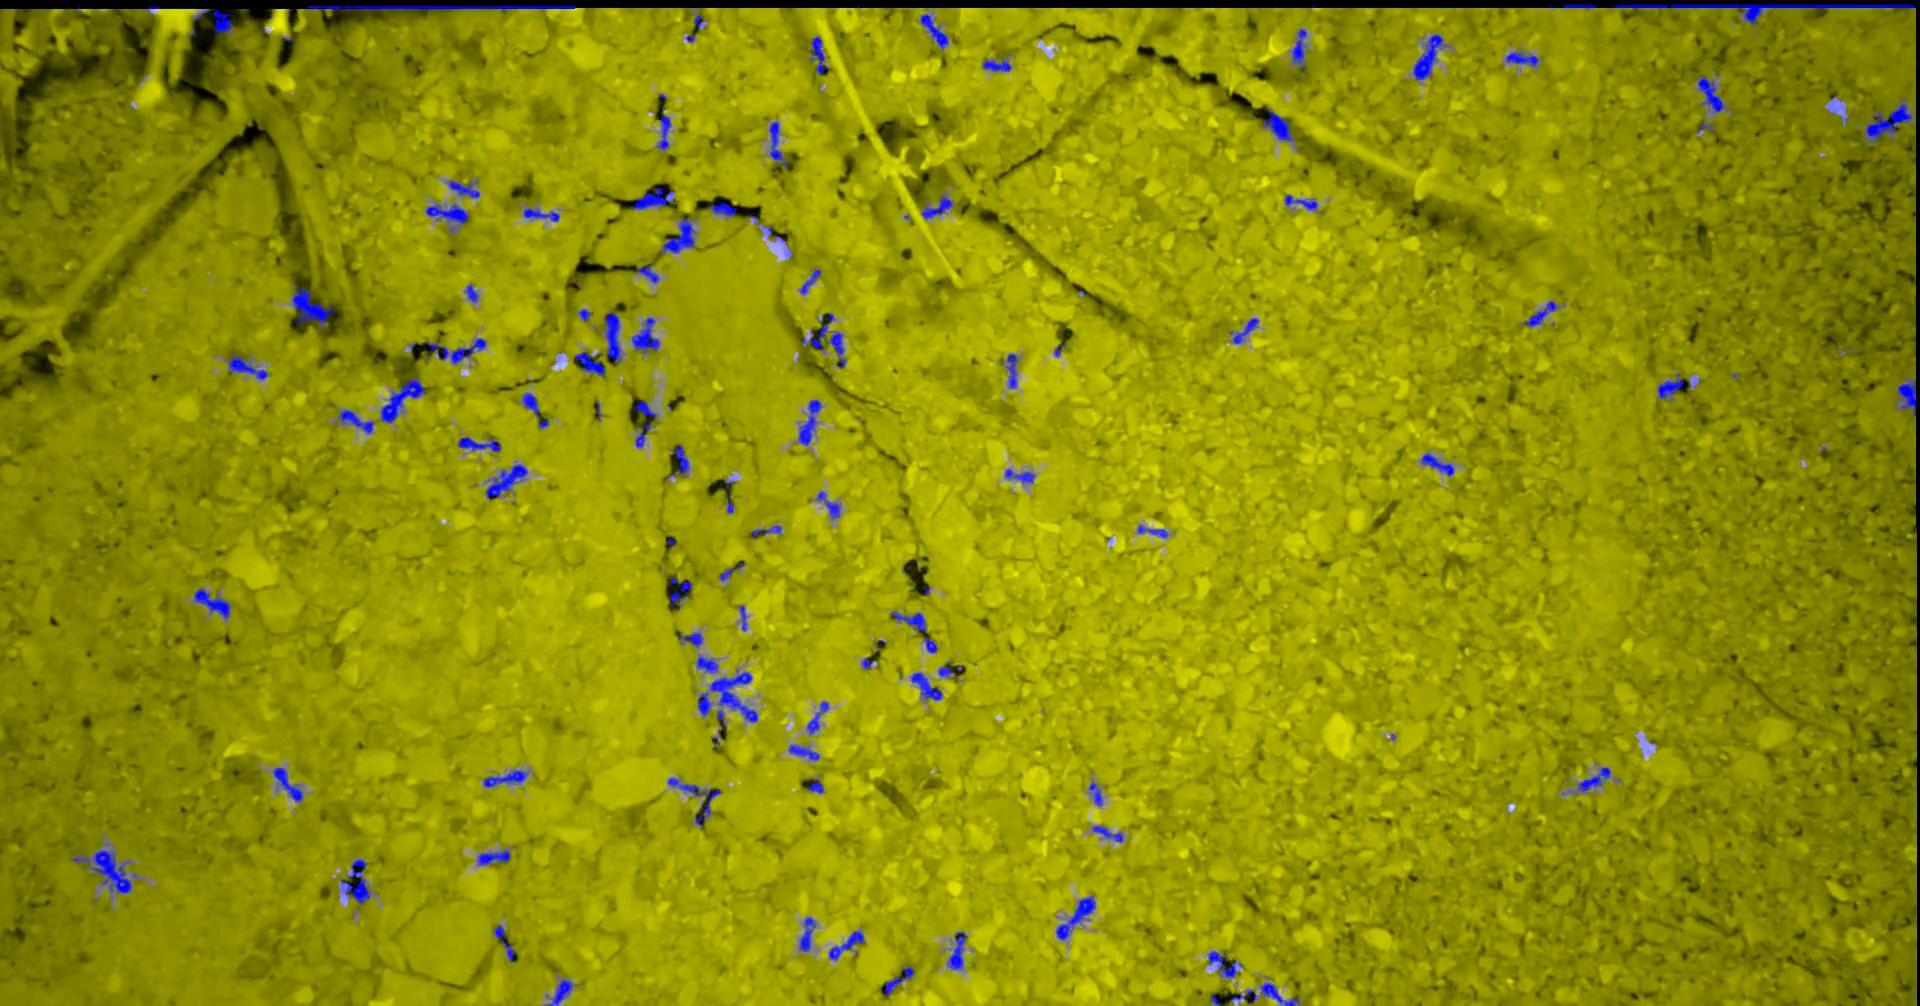ant: (709, 669, 757, 727), (667, 777, 721, 827), (71, 848, 131, 893), (803, 312, 844, 366), (380, 377, 424, 423), (410, 337, 485, 363), (889, 611, 937, 652), (1864, 103, 1911, 142), (291, 283, 333, 326), (1055, 895, 1095, 940), (1412, 33, 1446, 80), (1230, 982, 1299, 1005), (485, 464, 527, 499), (340, 857, 370, 904), (192, 8, 232, 39), (659, 217, 695, 253), (425, 203, 469, 231), (226, 352, 269, 379), (193, 588, 230, 619), (1262, 108, 1295, 141), (797, 399, 820, 445), (272, 767, 302, 801), (919, 13, 949, 48), (828, 930, 863, 959), (631, 185, 673, 210), (879, 965, 913, 995), (1697, 76, 1724, 112), (631, 318, 659, 353), (521, 392, 549, 427), (603, 312, 621, 363), (768, 121, 787, 166), (338, 409, 373, 433), (910, 672, 941, 700), (1525, 300, 1557, 326), (491, 923, 514, 960), (1208, 951, 1241, 977), (1657, 373, 1691, 398), (1576, 767, 1610, 791), (1420, 452, 1453, 476), (483, 770, 527, 788), (809, 36, 829, 74), (921, 194, 952, 218), (668, 575, 691, 608), (574, 351, 604, 375), (946, 931, 965, 969), (806, 701, 828, 734), (1230, 318, 1258, 343), (543, 979, 571, 1005), (1896, 379, 1916, 413), (457, 436, 500, 451), (817, 492, 841, 518), (1291, 28, 1305, 72), (670, 445, 690, 475), (657, 108, 670, 149), (799, 917, 815, 951), (477, 848, 510, 865), (799, 269, 820, 293), (522, 207, 559, 221), (1505, 51, 1538, 66), (448, 180, 479, 197), (1284, 194, 1317, 210), (1092, 826, 1123, 842), (719, 561, 744, 580), (789, 744, 819, 760), (1004, 353, 1017, 387), (750, 525, 781, 539), (1004, 469, 1034, 483), (709, 202, 737, 216), (1137, 525, 1167, 537), (937, 661, 963, 676), (635, 265, 658, 282), (982, 58, 1011, 71), (635, 423, 650, 447), (696, 655, 717, 672), (1088, 781, 1102, 805), (635, 400, 655, 417), (679, 633, 702, 647), (697, 692, 711, 715), (1547, 3, 1596, 8), (463, 285, 477, 302), (808, 779, 823, 793), (739, 605, 745, 630)
